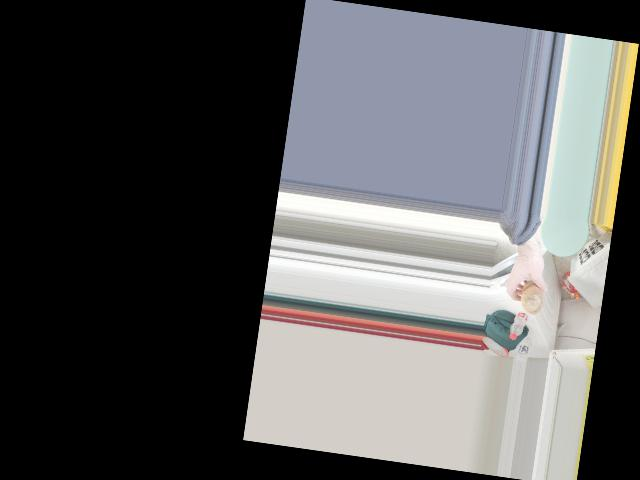sweet_potato: (516, 276, 549, 317)
